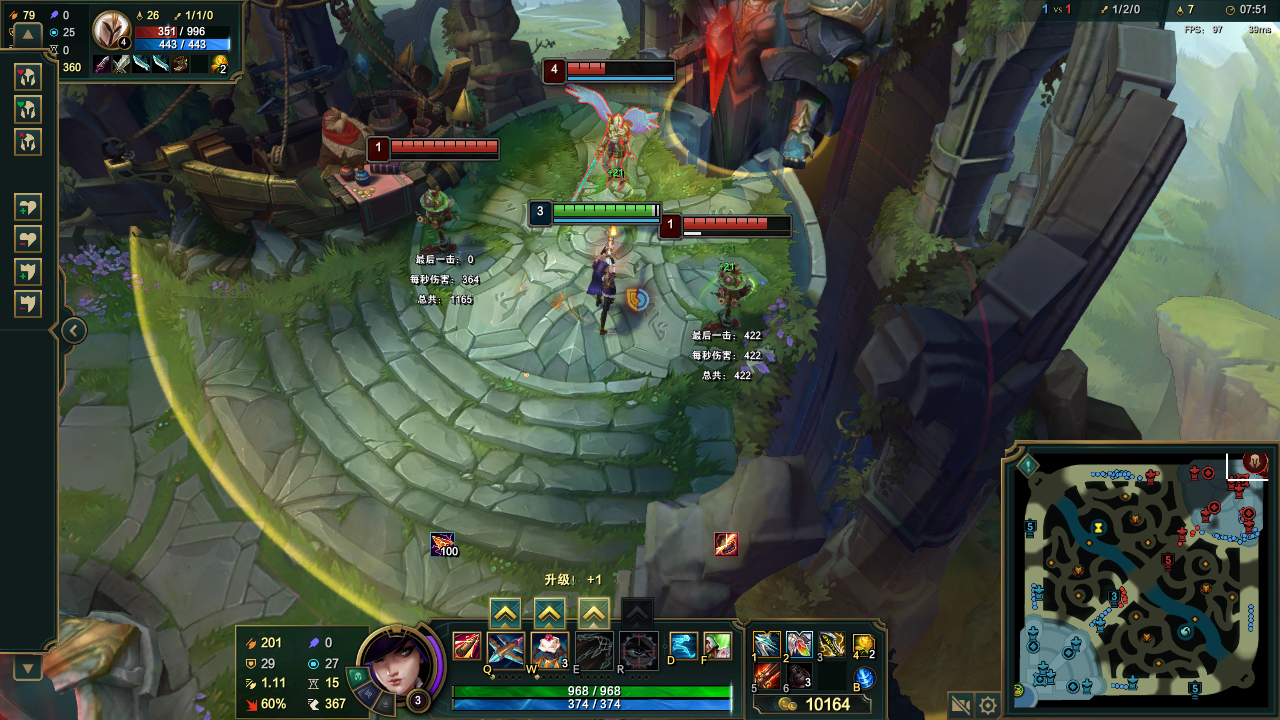DFYX: (566, 60, 675, 76), (683, 218, 796, 231), (387, 140, 497, 150)
